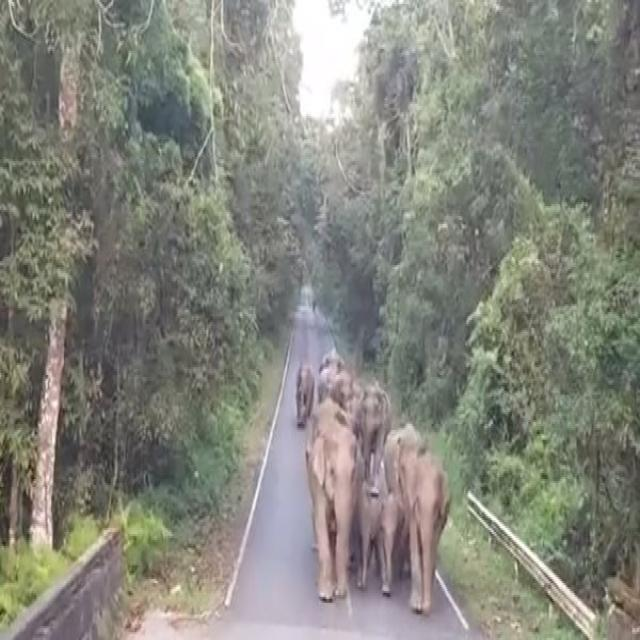Elephant: (307, 409, 358, 599), (405, 454, 450, 617), (360, 480, 400, 596), (361, 379, 392, 474), (289, 361, 314, 421), (322, 377, 358, 408)
